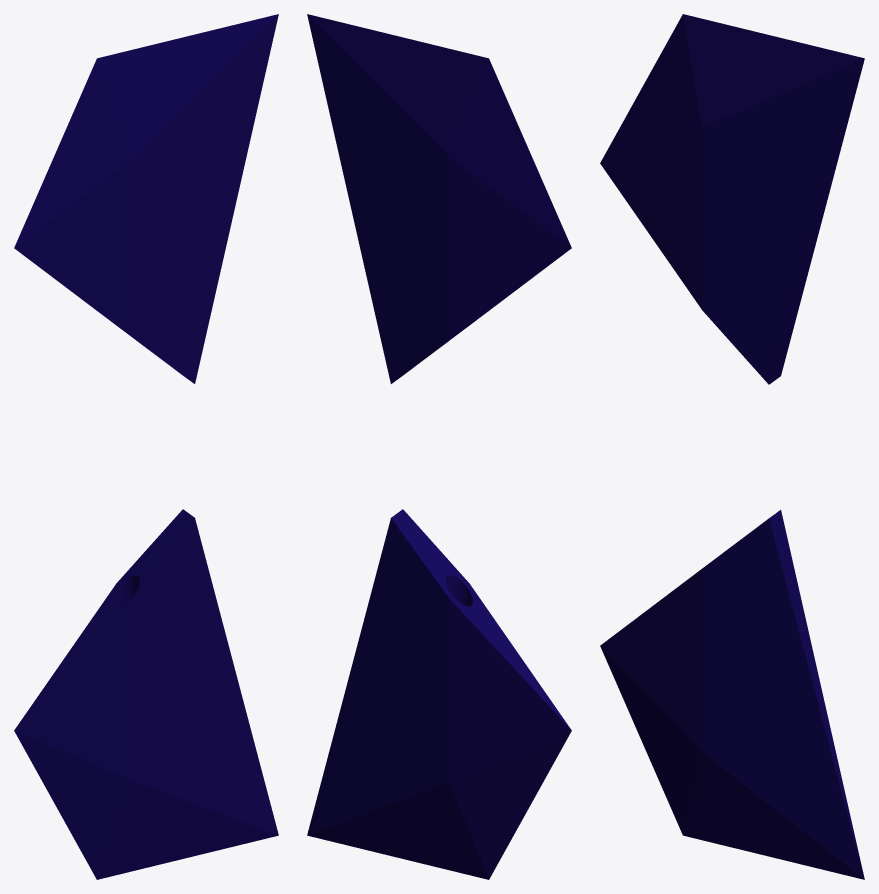
File: fin_pair_v.000.fbx
3 views of the same model, side by side, from view 1: azimuth 30°, elevation 25°; view 2: azimuth 150°, elevation 25°; view 3: azimuth 330°, elevation 25° (orthographic).
Parts seen in each view (by area): view 1: fin_pair_v.000; view 2: fin_pair_v.000; view 3: fin_pair_v.000.
Boxes of the visible parts, <box> form: fin_pair_v.000: <box>14,14,278,879</box>; fin_pair_v.000: <box>307,14,571,879</box>; fin_pair_v.000: <box>600,14,864,879</box>.
Size of the model in its own units: 23.64 by 3.15 by 70.06.
